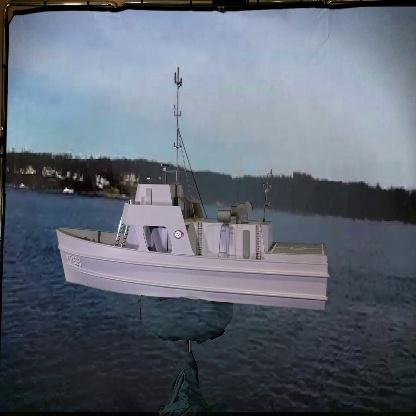YP689: (53, 52, 331, 313)
